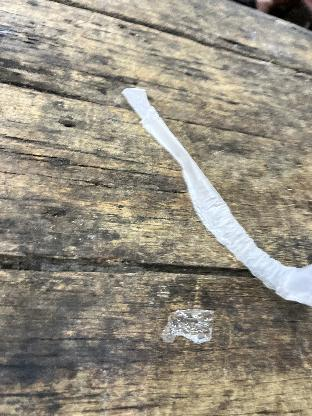Others: (120, 87, 312, 305), (163, 308, 215, 340)
